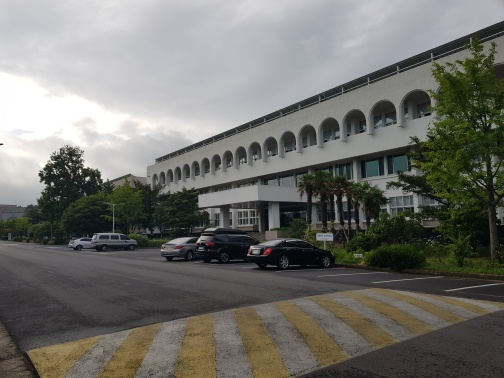Main Building of University: (145, 34, 493, 230), (264, 105, 396, 165), (150, 154, 210, 187)
